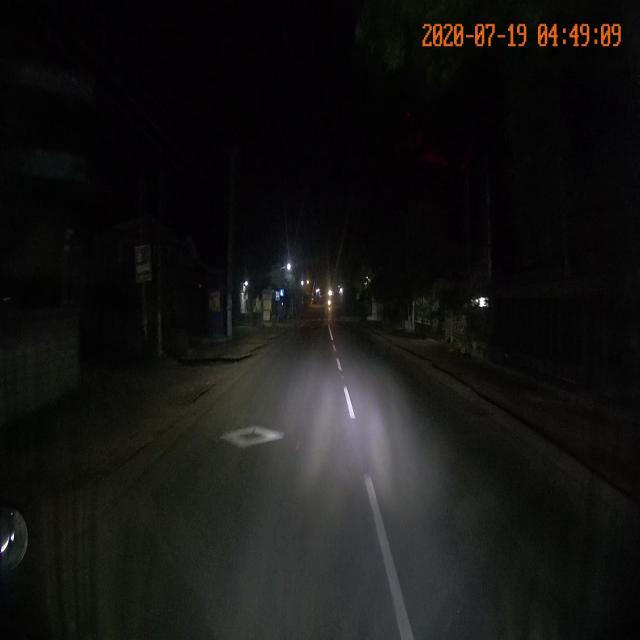Romb: (218, 425, 288, 448)
